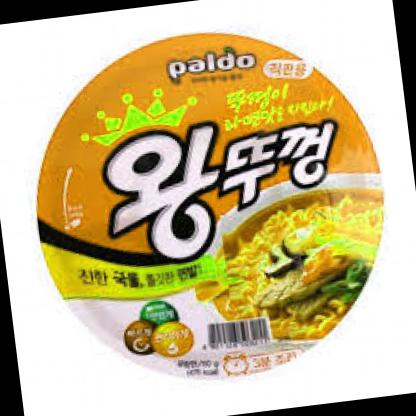Ramen: (14, 10, 408, 412)
